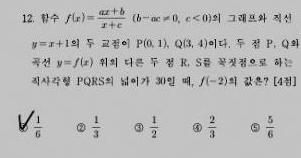choice: (16, 115, 29, 133)
not-choice: (132, 122, 144, 133), (249, 122, 260, 134), (75, 122, 86, 133), (191, 122, 202, 133)
